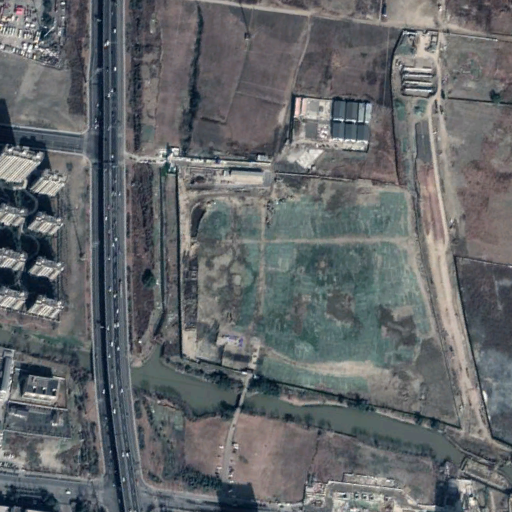cw: (180, 179, 458, 428), (395, 27, 512, 437)
